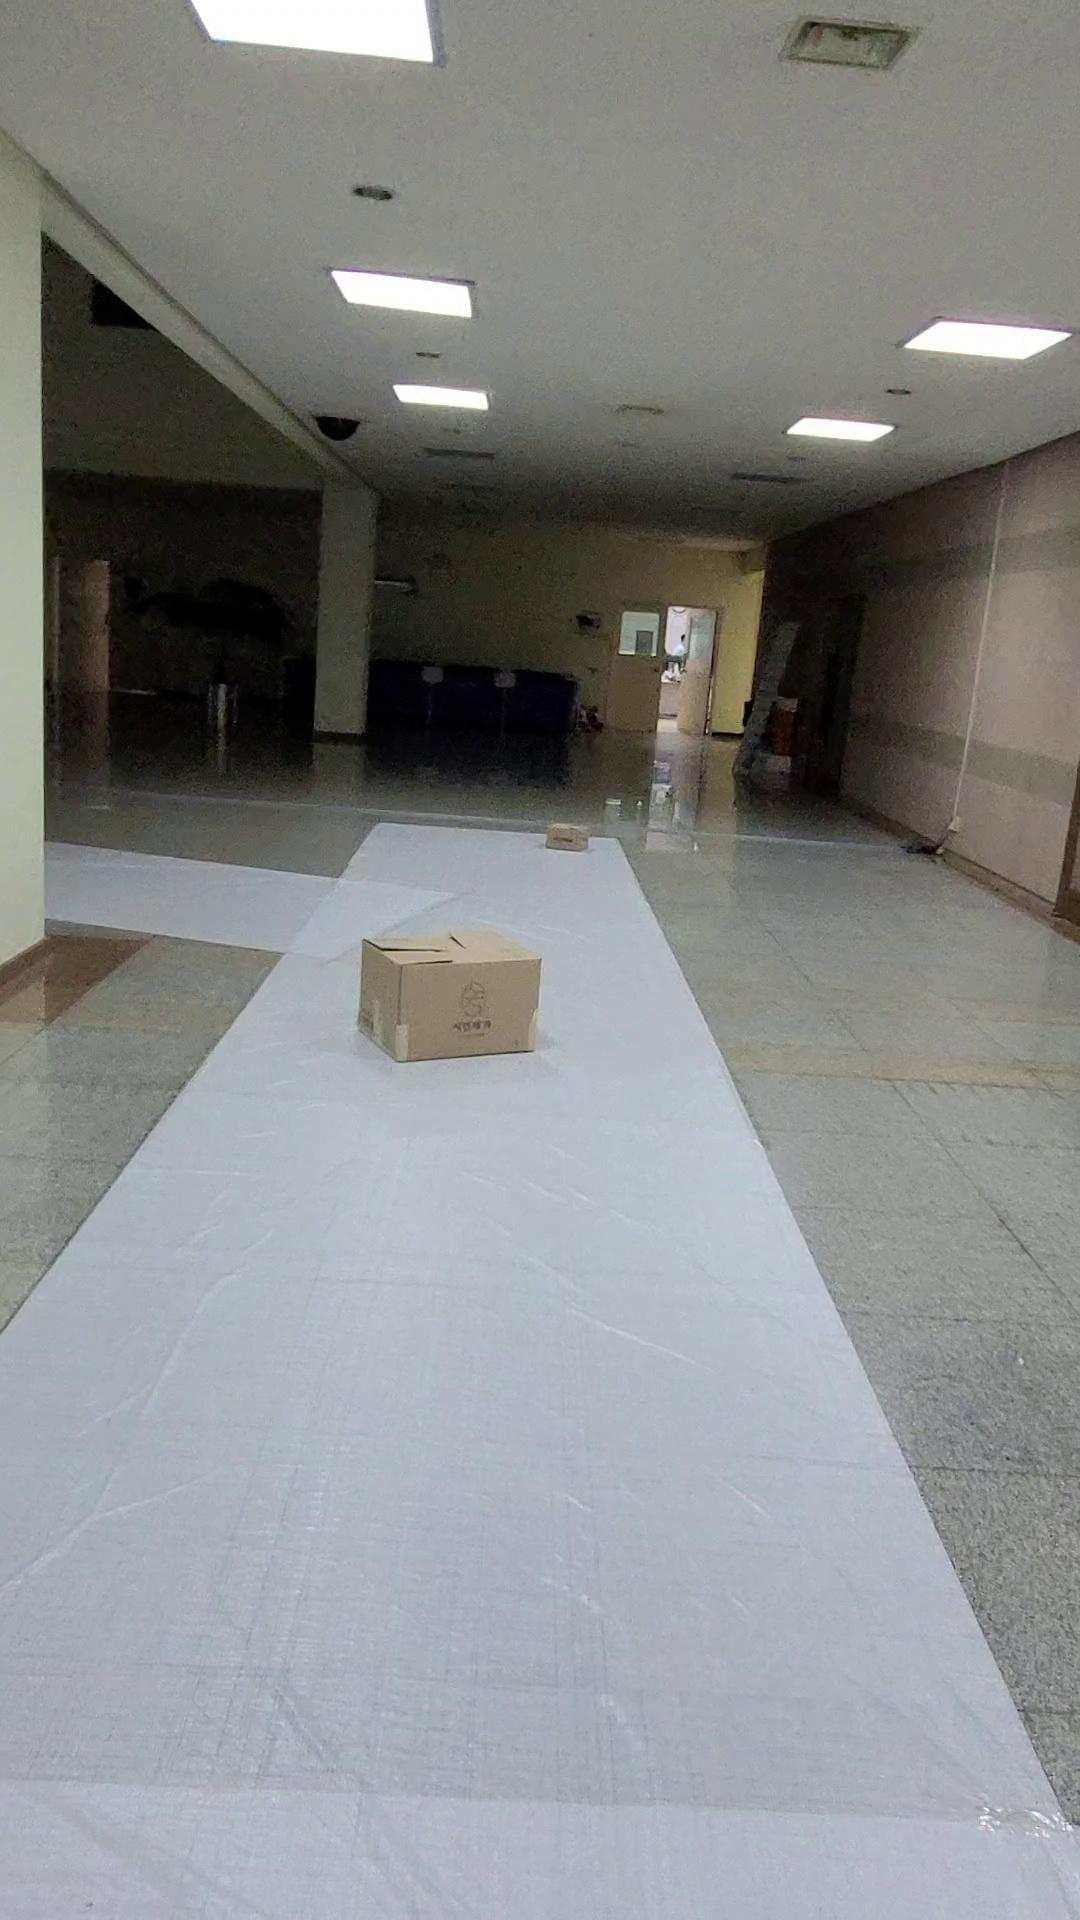Box: (353, 899, 555, 1075)
